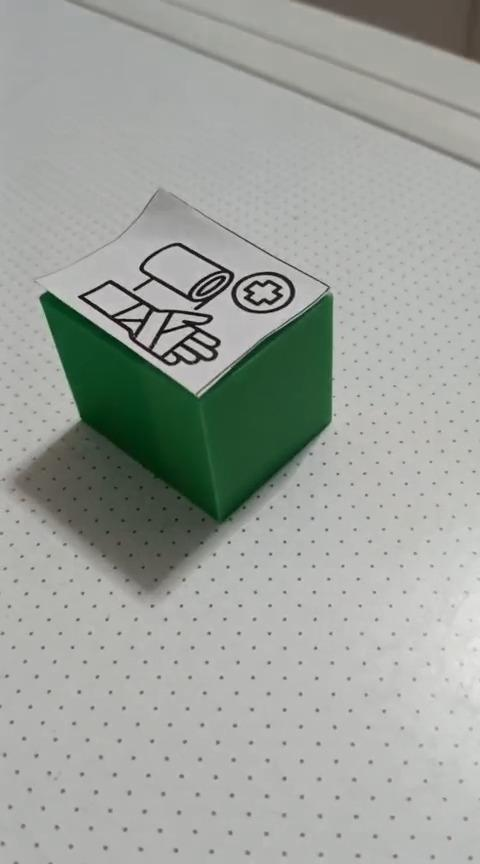Bandages: (33, 186, 334, 523)
